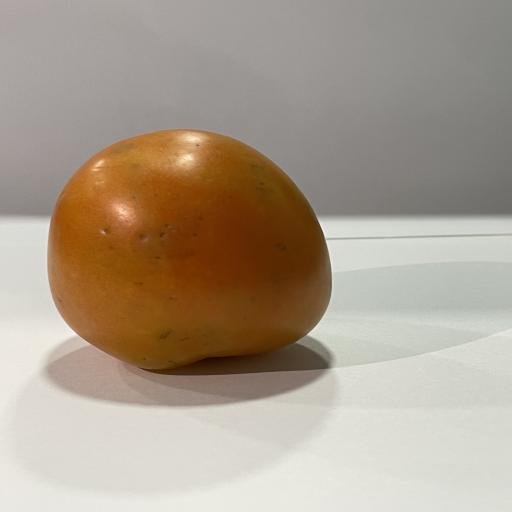unripe: (48, 130, 331, 370)
